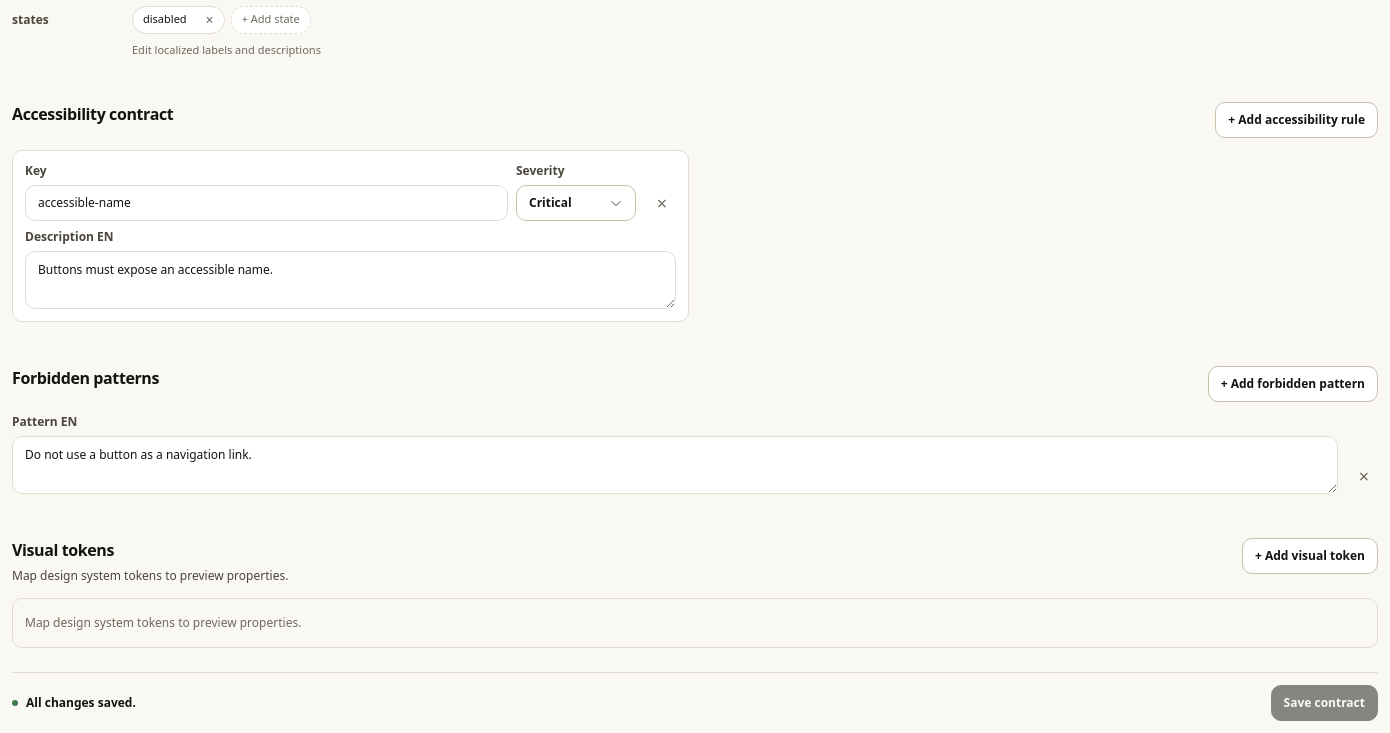
Scenario: ComponentContractEditor › keeps arbitrary bindings available through the custom role fallback
(page scrolled)
Step 1. Click the button "+ Add visual token" → coordinates (1310, 556), box [1242,538,1378,574]
(page scrolled)
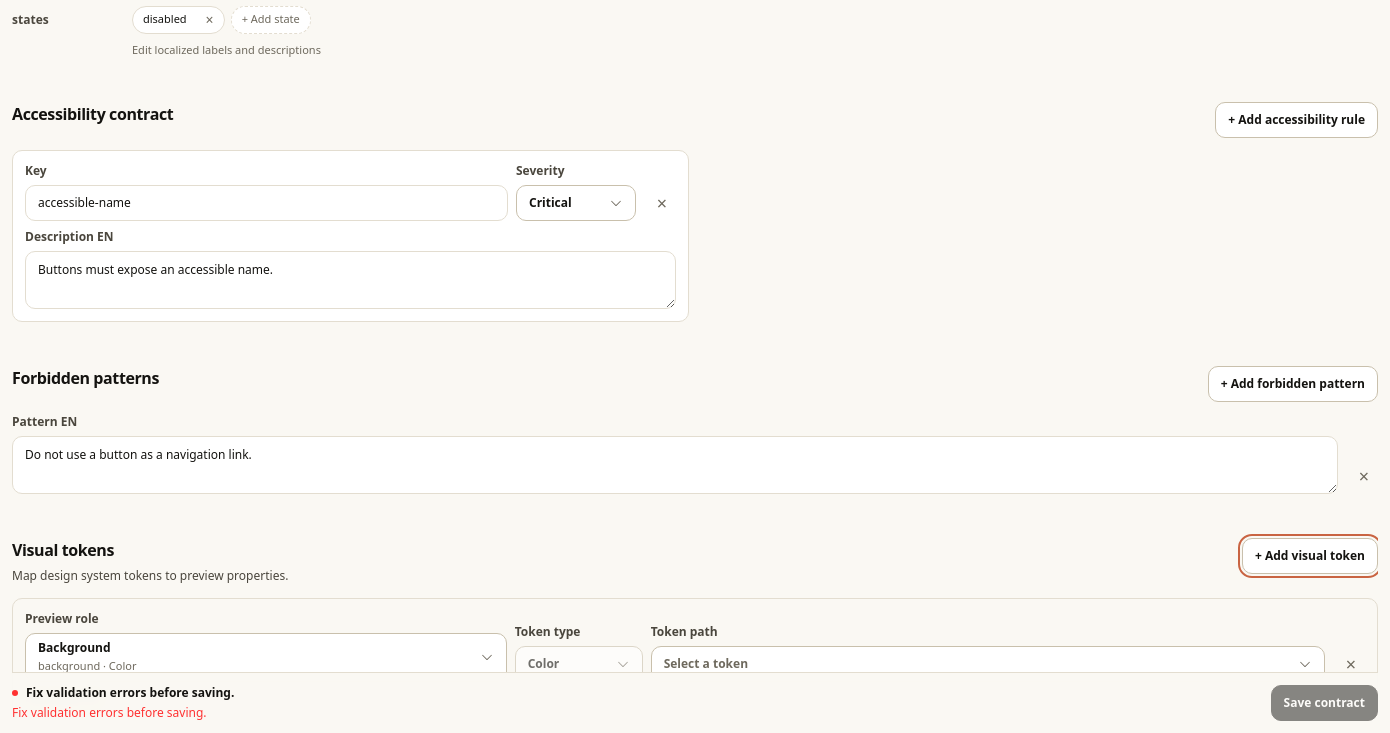
Step 2. Click the dropdown named "Preview role" → coordinates (74, 648), box [25,633,507,682]
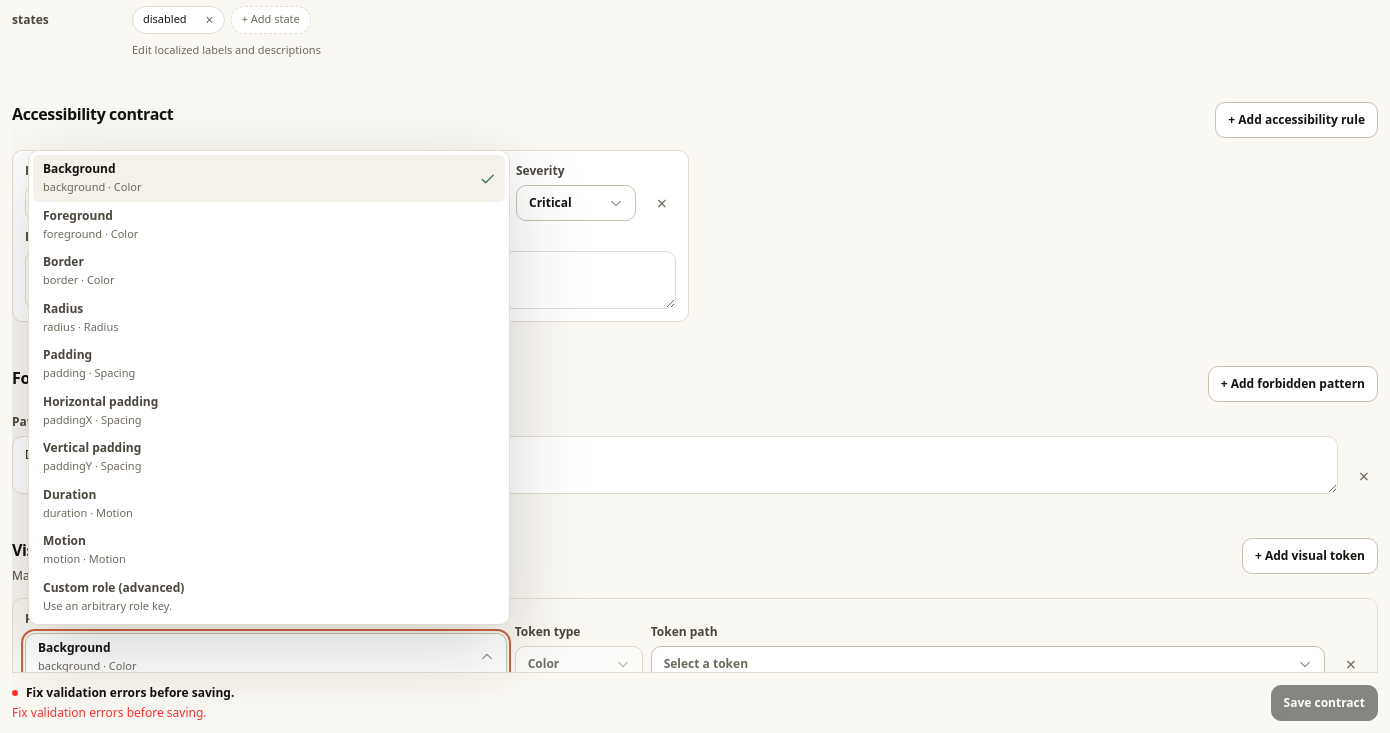
Step 3. Click the option "Custom role (advanced) Use an arbitrary role key." → coordinates (114, 587), box [33,574,505,620]
(page scrolled)
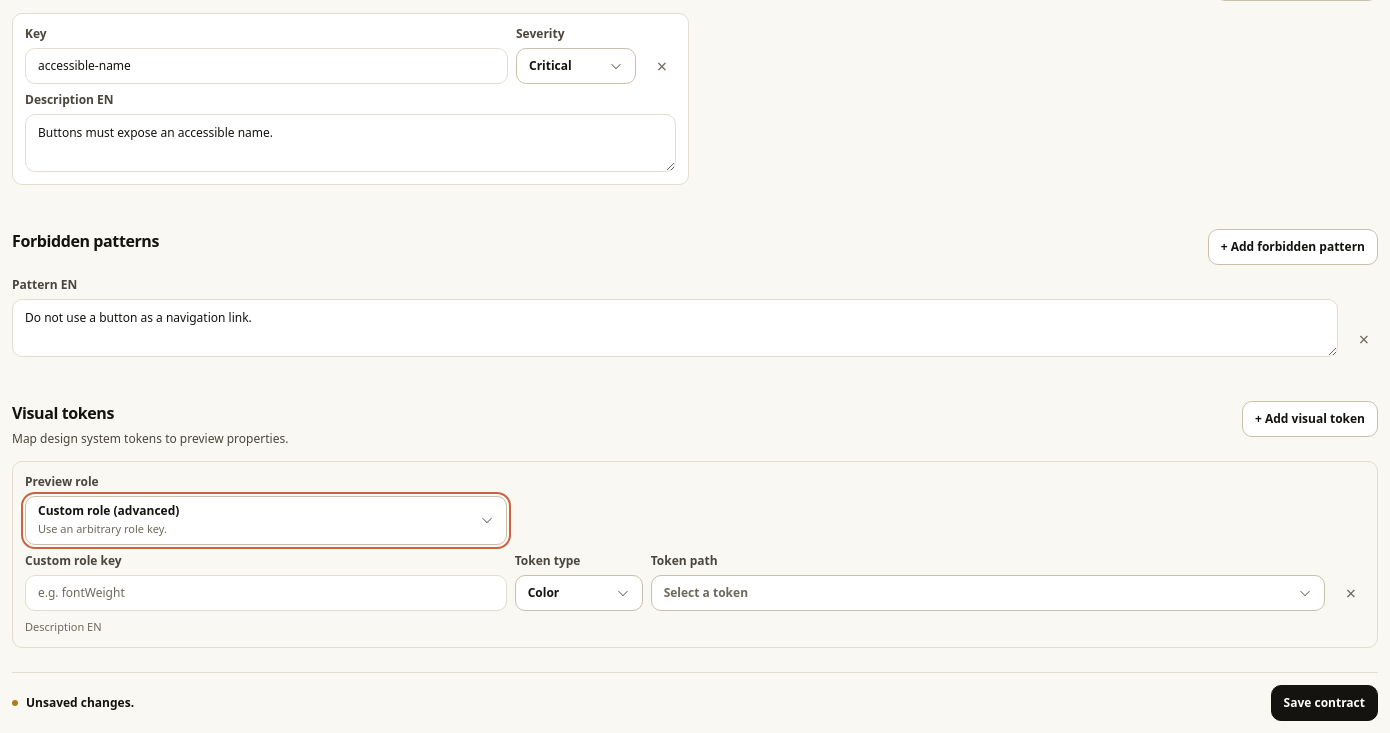
Step 4. Type "fontWeight" into the field labelled "Custom role key" → coordinates (266, 592), box [25,574,507,610]
(page scrolled)
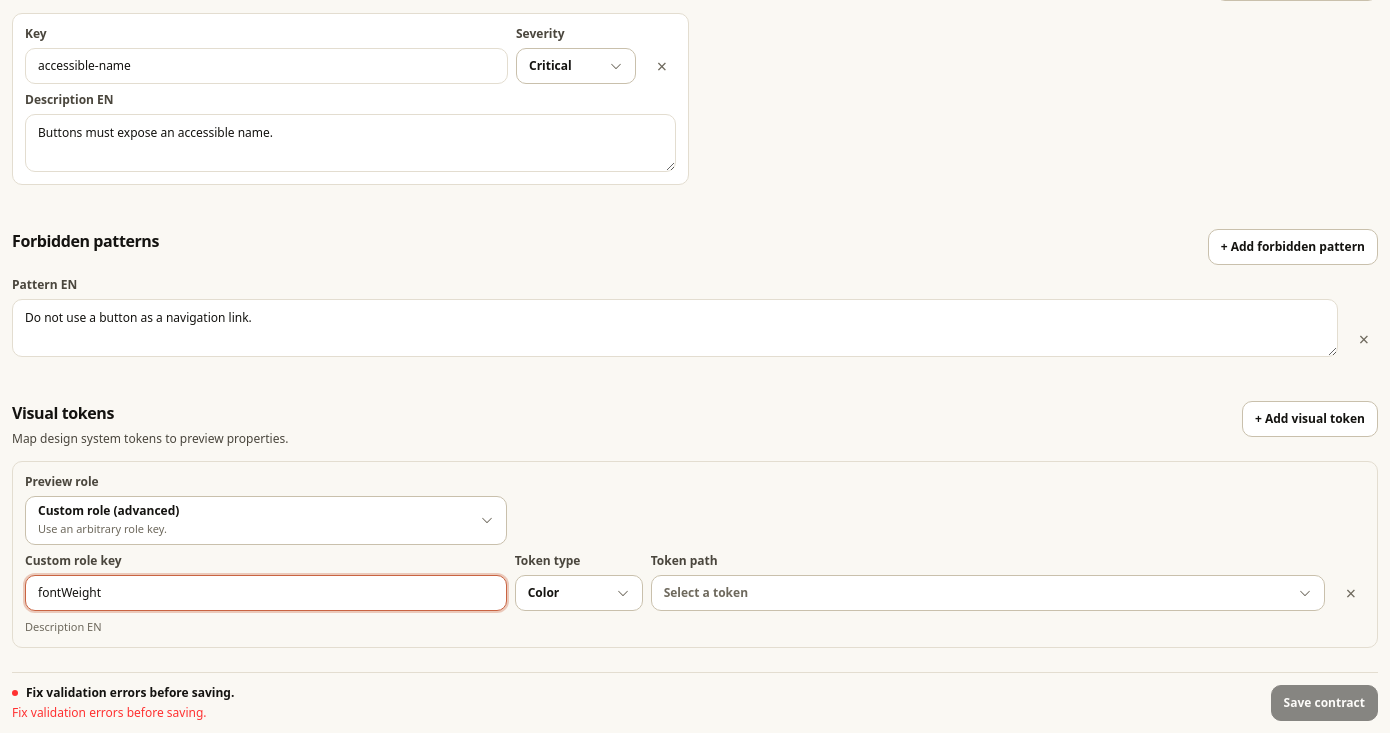
Check: the dropdown named "Token type" is enabled
Step 5. Click the dropdown named "Token type" → coordinates (579, 592), box [515,574,643,610]
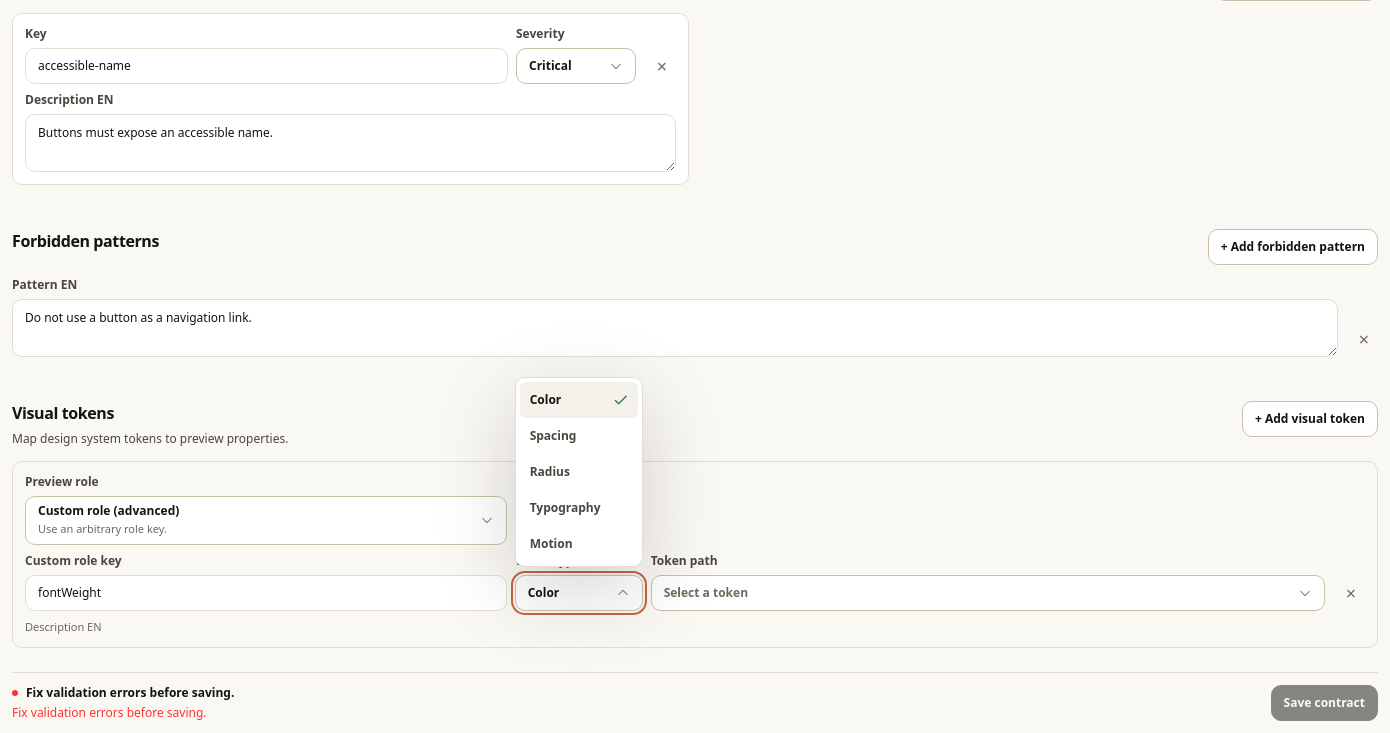
Step 6. Click the option "Typography" → coordinates (579, 508), box [520,490,638,526]
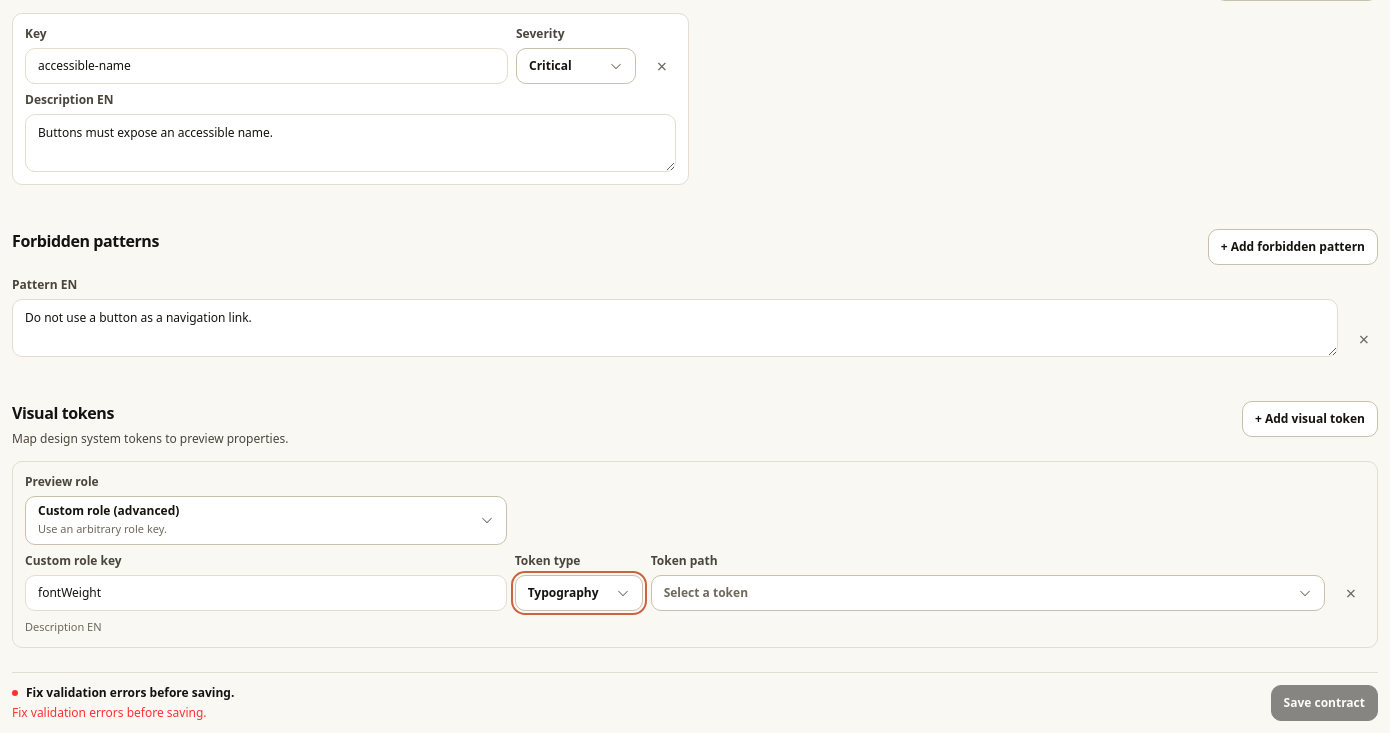
Check: the dropdown named "Token type" reads "Typography", box [515,574,643,610]
